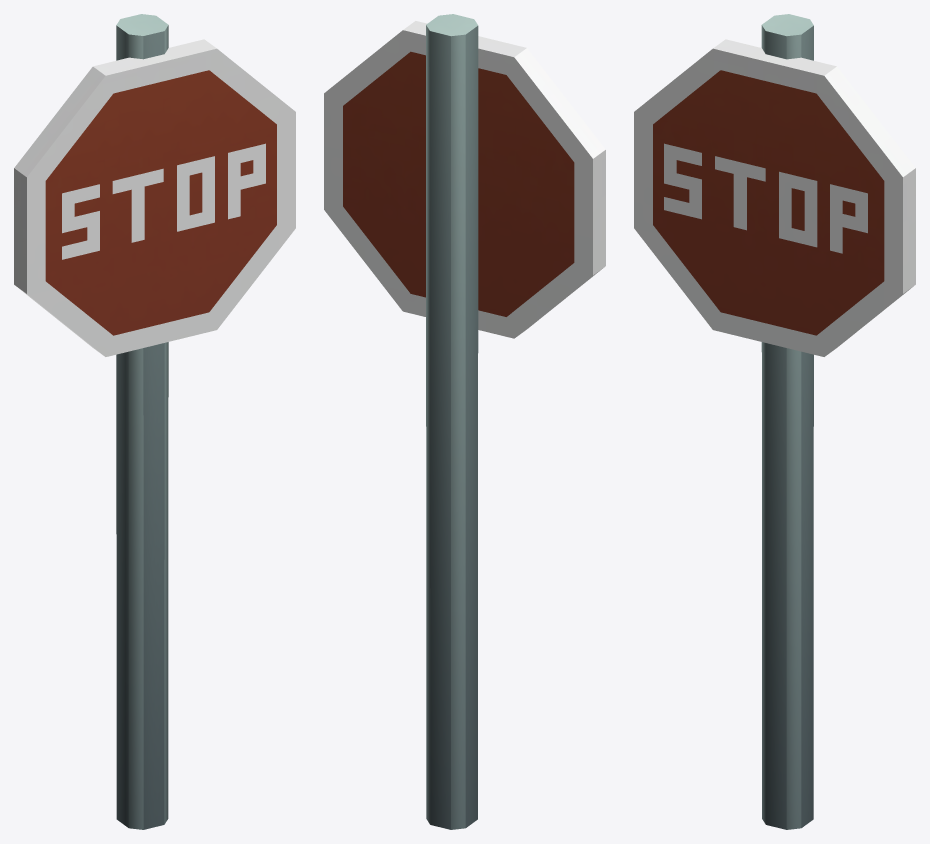
The model's file is sign_stop.fbx.
3 views of the same model, side by side, from view 1: azimuth 30°, elevation 25°; view 2: azimuth 150°, elevation 25°; view 3: azimuth 330°, elevation 25° (orthographic).
Parts seen in each view (by area): view 1: sign_stop; view 2: sign_stop; view 3: sign_stop.
Boxes of the visible parts, left/top/right/bottom form: sign_stop: left=14, top=14, right=295, bottom=829; sign_stop: left=324, top=14, right=605, bottom=829; sign_stop: left=634, top=14, right=915, bottom=829.
Bounding box in the file's own units: 88.76 × 250 × 19.05.
